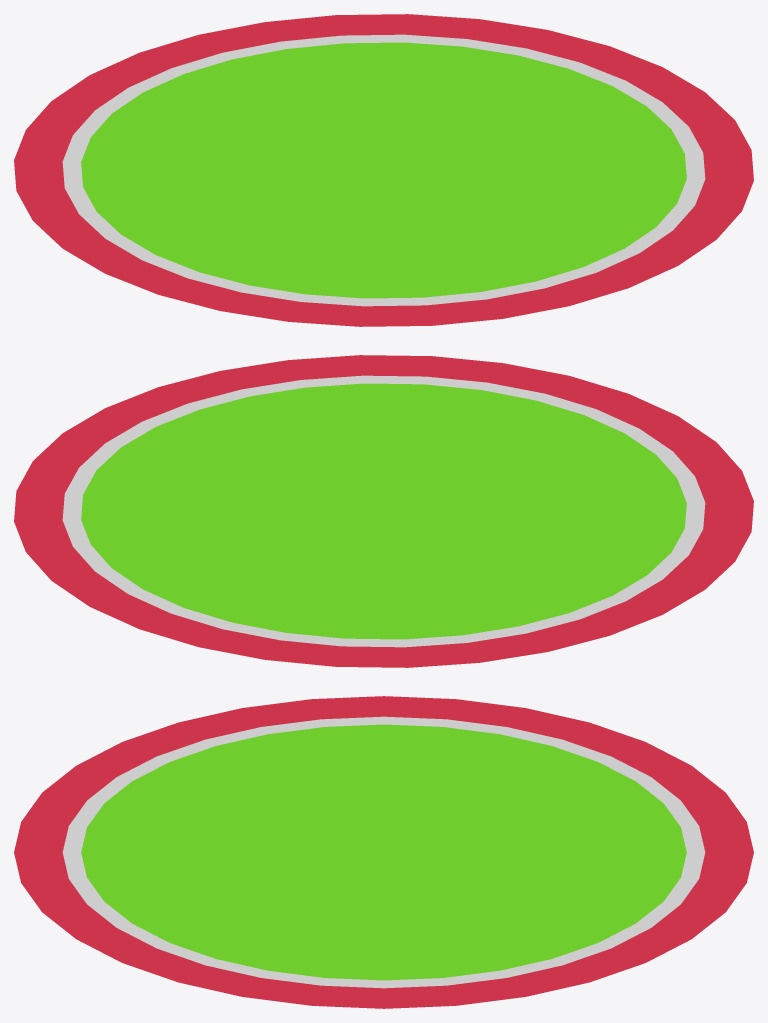
Rendered from rug_small_ring.fbx.
3 renders of one model, top to bottom at view 1: azimuth 30°, elevation 25°; view 2: azimuth 150°, elevation 25°; view 3: azimuth 270°, elevation 25°, orthographic.
Visible parts, largest first — view 1: Circle; view 2: Circle; view 3: Circle.
Boxes of the visible parts, x1,y1,x2,y2 form: Circle: [14, 14, 753, 326]; Circle: [14, 355, 753, 667]; Circle: [14, 696, 753, 1008].
Bounding box in the file's own units: 200 × 0 × 200.
